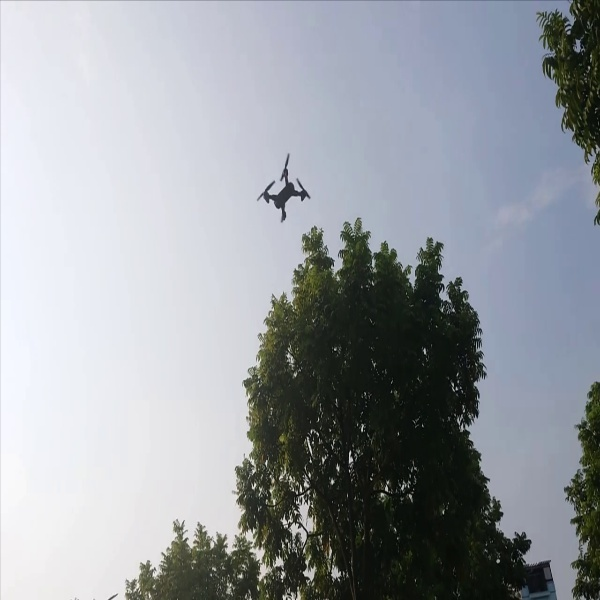drone: (250, 154, 313, 222)
